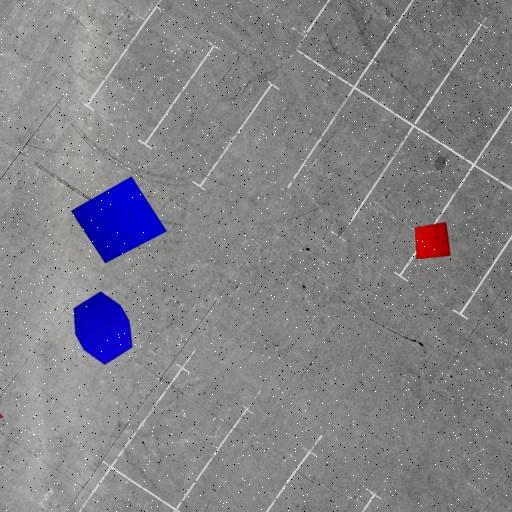BLUE_SQUARE: (70, 176, 168, 264)
RED_SQUARE: (414, 222, 452, 260)
